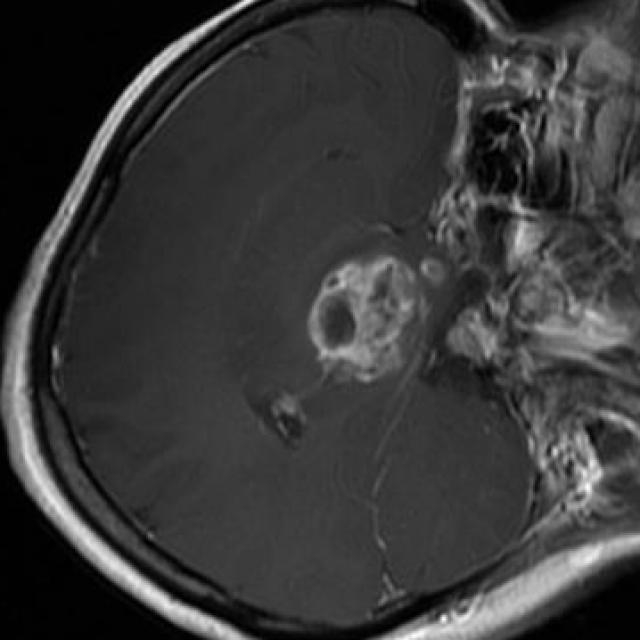glioma: (307, 255, 449, 387)
